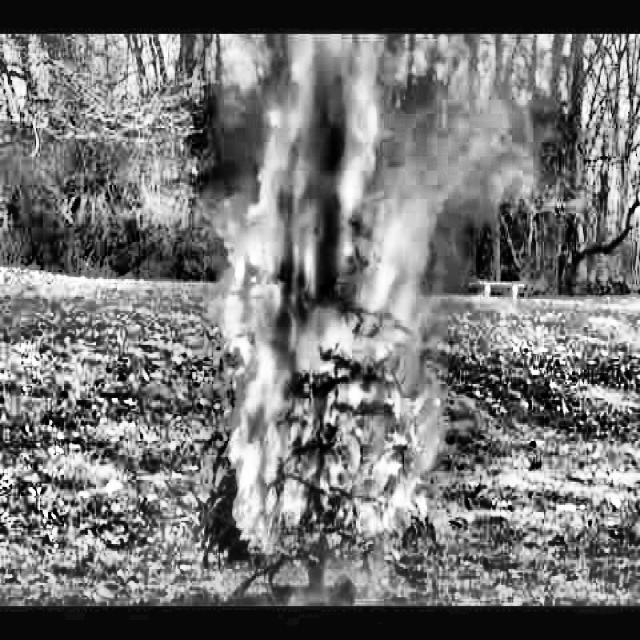fire: (219, 37, 444, 567)
